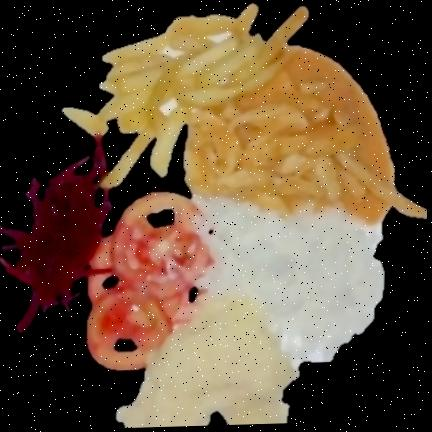beet: (0, 134, 111, 331)
chicken: (178, 43, 427, 223)
potato: (62, 5, 308, 187), (117, 296, 296, 428)
rice: (194, 196, 383, 365)
tomato: (88, 192, 212, 370)
